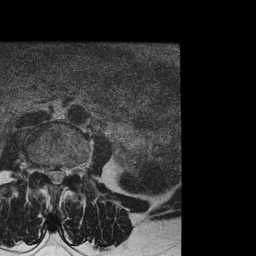CCS_severe_stenosis: (52, 163, 60, 189)
LFS_normal: (67, 161, 74, 181)
LLS_stenosis: (60, 163, 66, 185)
RFS_normal: (37, 162, 46, 182)
RLS_stenosis: (46, 163, 53, 184)
